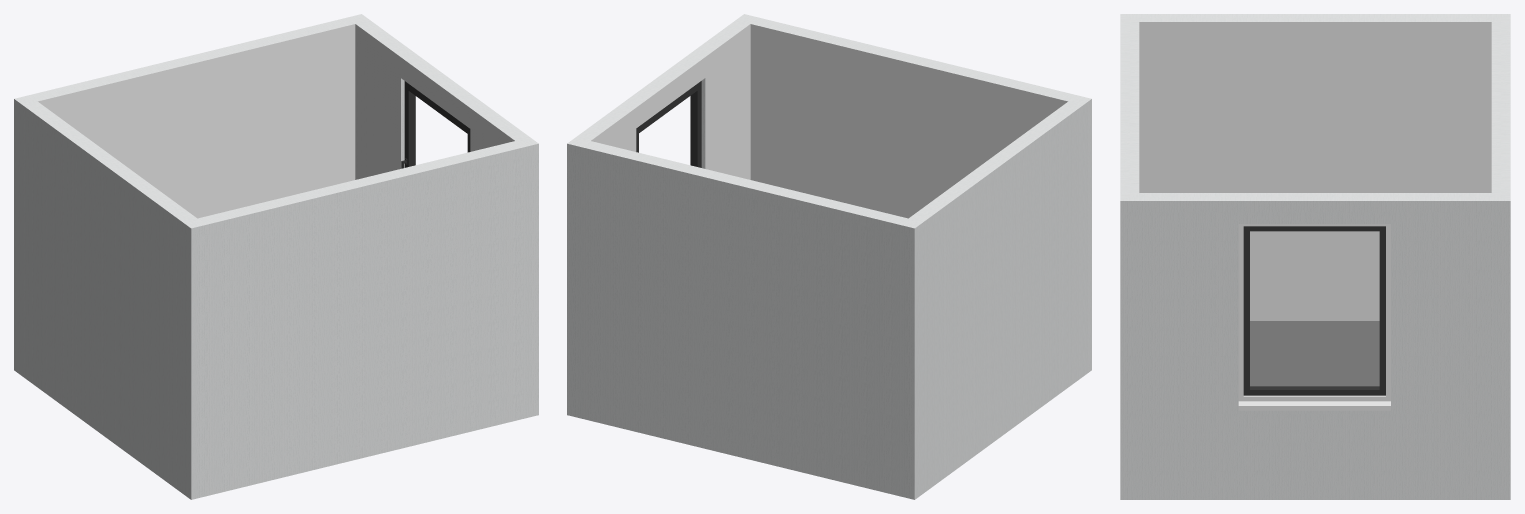
File: habitacion1.glb
3 views of the same model, side by side, from view 1: azimuth 30°, elevation 25°; view 2: azimuth 150°, elevation 25°; view 3: azimuth 270°, elevation 25° (orthographic). The views are drawn at different scales.
Size of what is drawn, in the model's own units: 3.53 by 2.6 by 3.07.
Materials: 5 (1 with a texture image).
